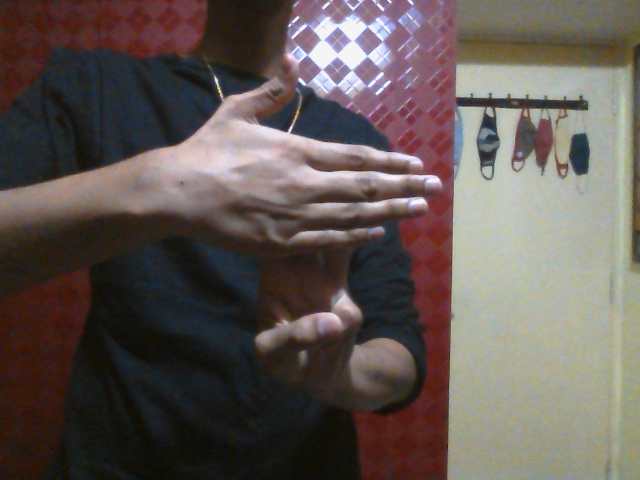M: (179, 52, 442, 407)
